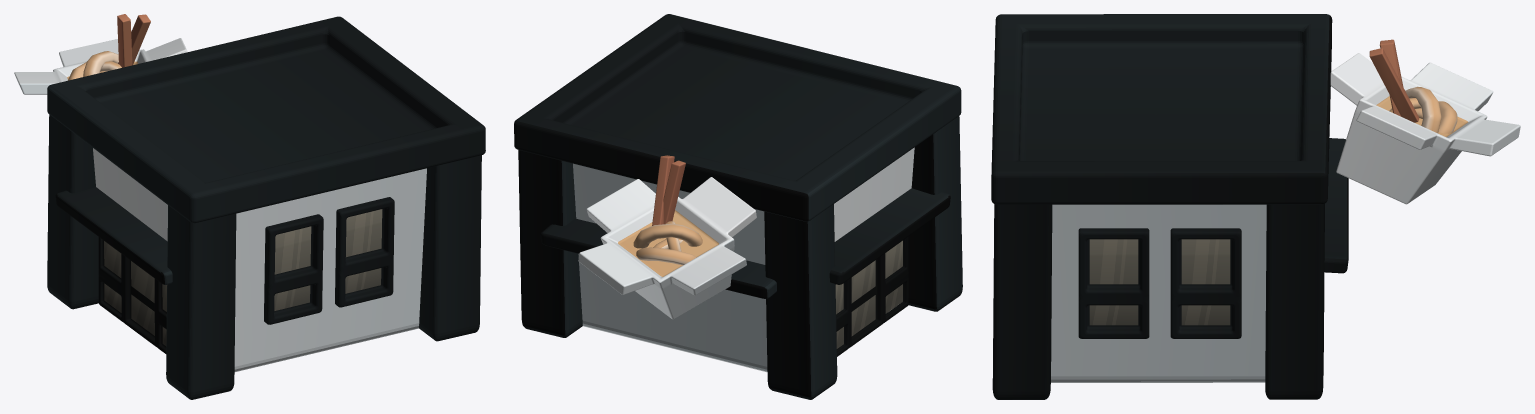
File: japones .fbx
3 views of the same model, side by side, from view 1: azimuth 30°, elevation 25°; view 2: azimuth 150°, elevation 25°; view 3: azimuth 270°, elevation 25° (orthographic). The views are drawn at different scales.
Visible parts, largest first — view 1: japones.001; view 2: japones.001; view 3: japones.001.
Boxes of the visible parts, x1,y1,x2,y2 form: japones.001: [14, 14, 485, 399]; japones.001: [514, 14, 962, 399]; japones.001: [991, 14, 1520, 399].
Size of the model in its own units: 1653 by 1205 by 2206.
Materials: 1 (1 with a texture image).
